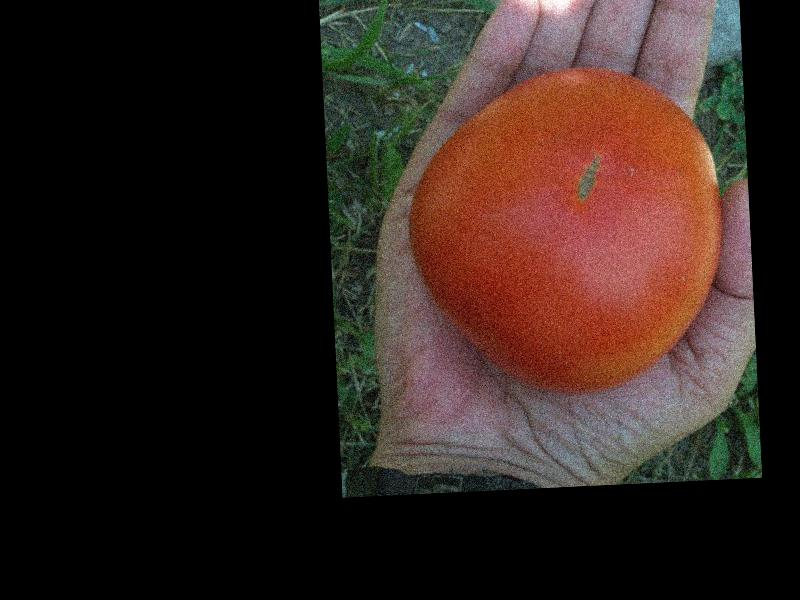Tomato: (401, 62, 729, 397)
